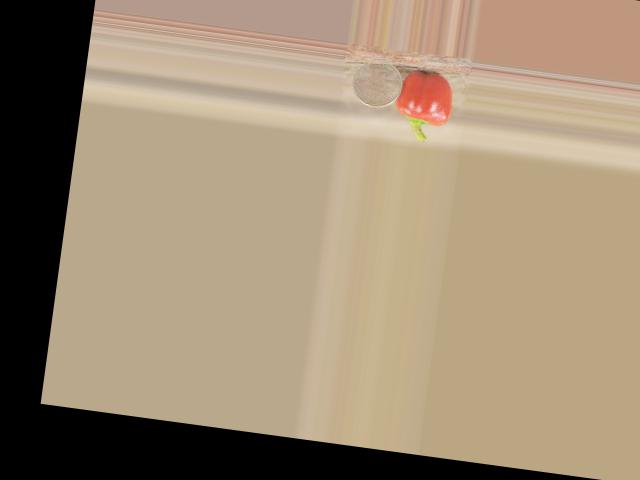bell_pepper: (393, 66, 457, 144)
